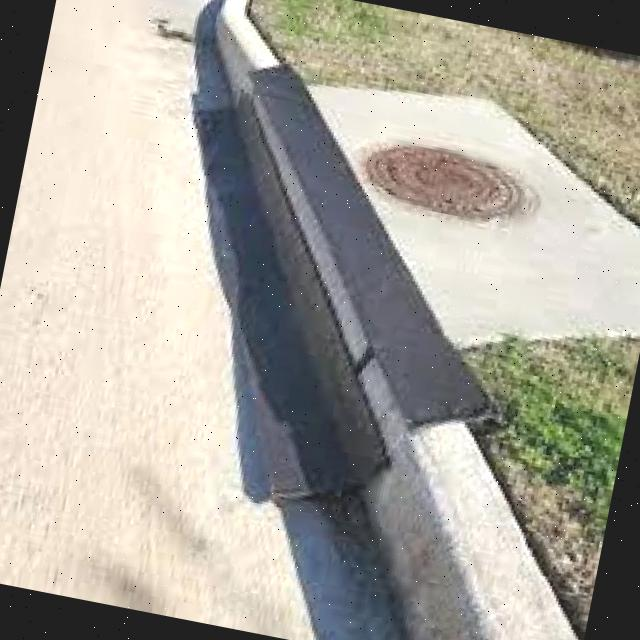curb: (210, 6, 587, 640)
